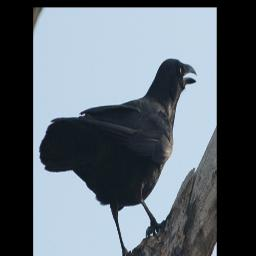Crow: (39, 56, 199, 256)
